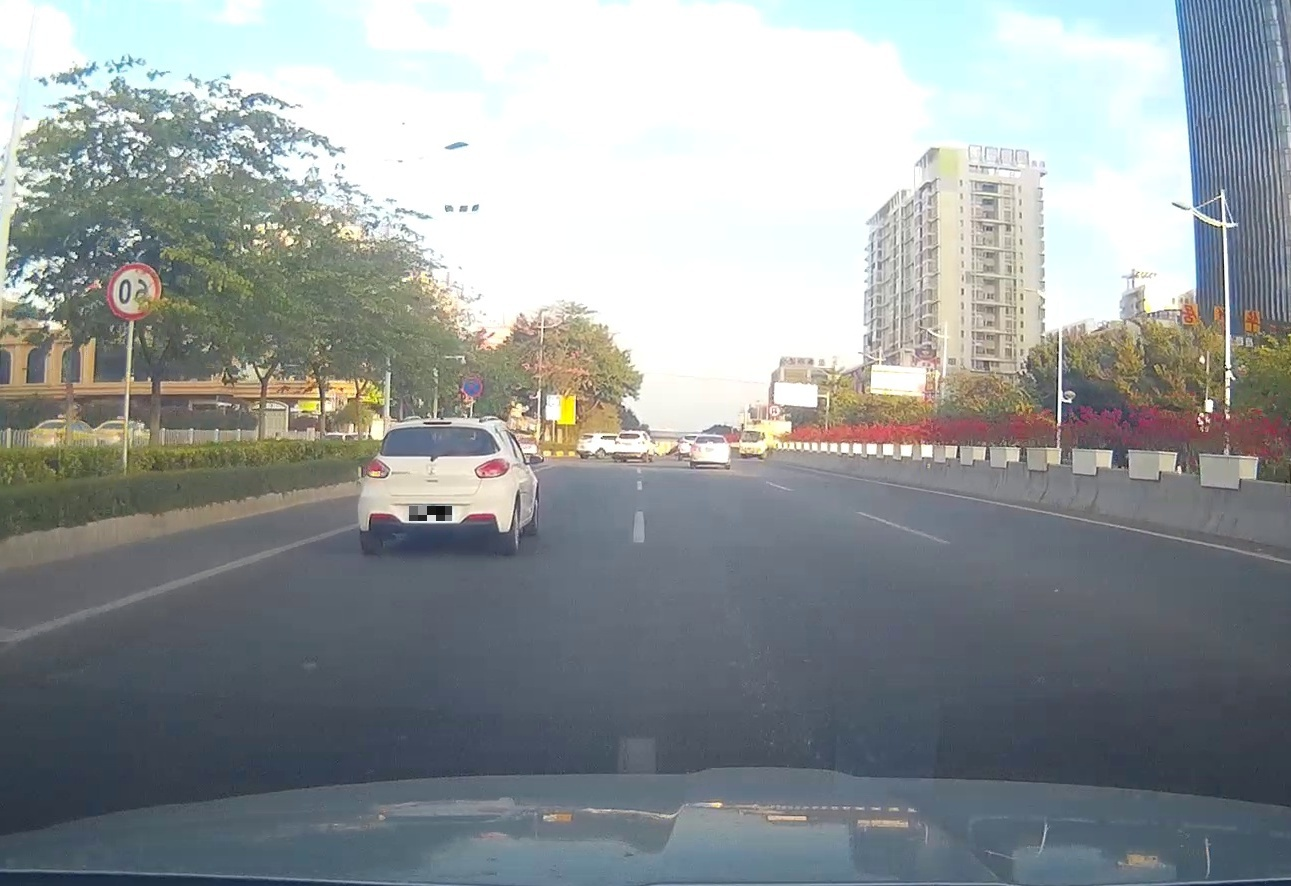L_light: (365, 459, 391, 479)
R_light: (474, 458, 510, 478)
T_light: (423, 421, 453, 425)
day-left: (357, 417, 510, 554)
plate_1: (409, 506, 452, 521)
